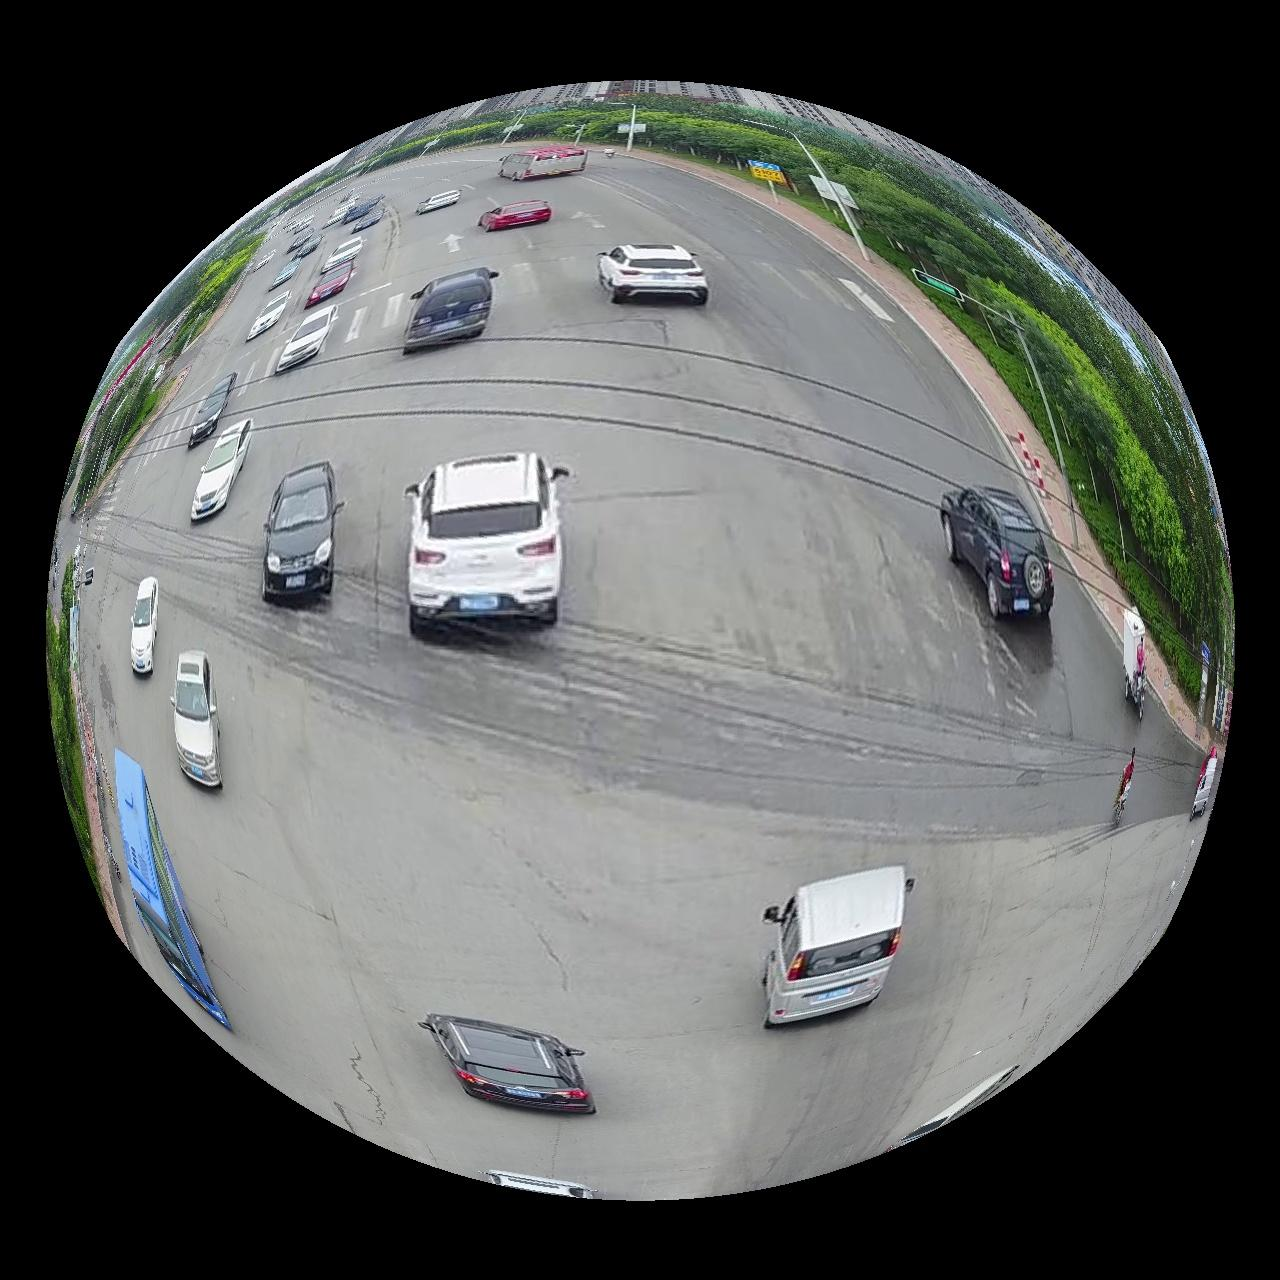cars: (115, 750, 229, 1029), (406, 452, 568, 635), (761, 867, 915, 1030), (418, 1015, 595, 1116), (942, 486, 1056, 618), (260, 462, 342, 602), (892, 1068, 1021, 1151), (403, 266, 498, 354), (169, 651, 222, 789), (599, 241, 710, 305), (190, 418, 252, 520), (274, 304, 338, 374), (186, 372, 234, 448), (483, 1172, 600, 1201), (499, 143, 588, 179), (129, 577, 157, 676), (302, 259, 355, 307), (478, 199, 552, 230), (246, 290, 288, 340), (321, 234, 365, 272), (416, 189, 461, 212), (268, 256, 300, 288), (353, 205, 387, 232), (246, 250, 275, 272)
trees: (971, 275, 1198, 613), (45, 558, 90, 864), (169, 231, 263, 354)
